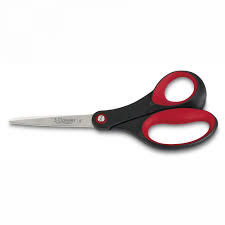tihiras: (7, 63, 219, 153)
